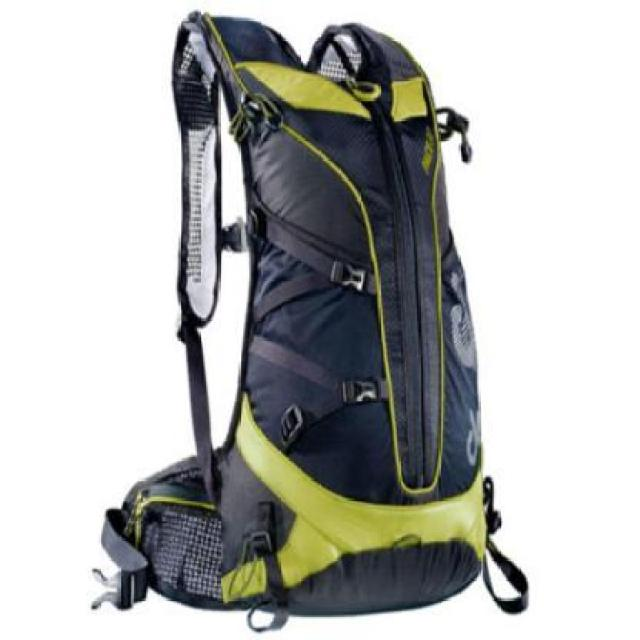backpack: (89, 6, 537, 640)
